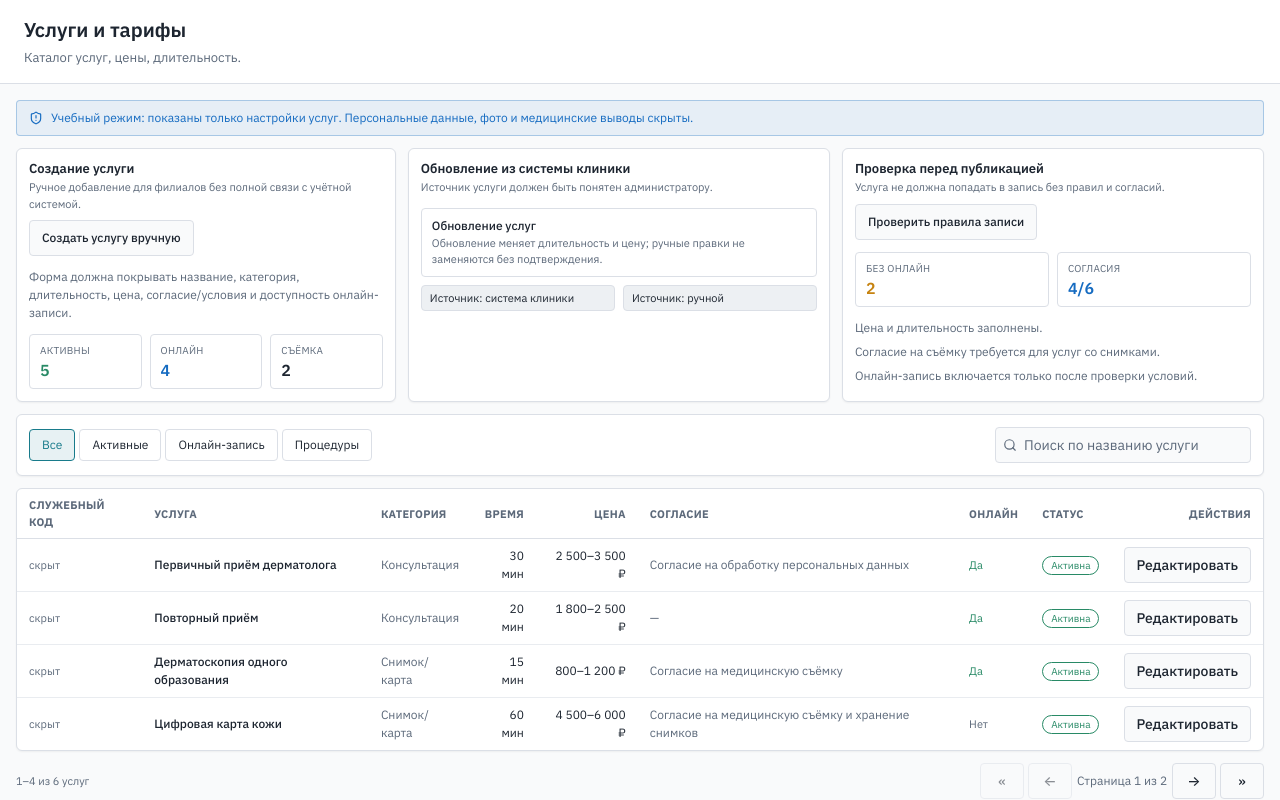
Test: Admin clinic core pages — render & safety › AdminServicesPage shows empty state with filter chip
Step 1. Type "ZZZнет" into the field named "Поиск услуг" → coordinates (1123, 445), box [995,427,1251,463]
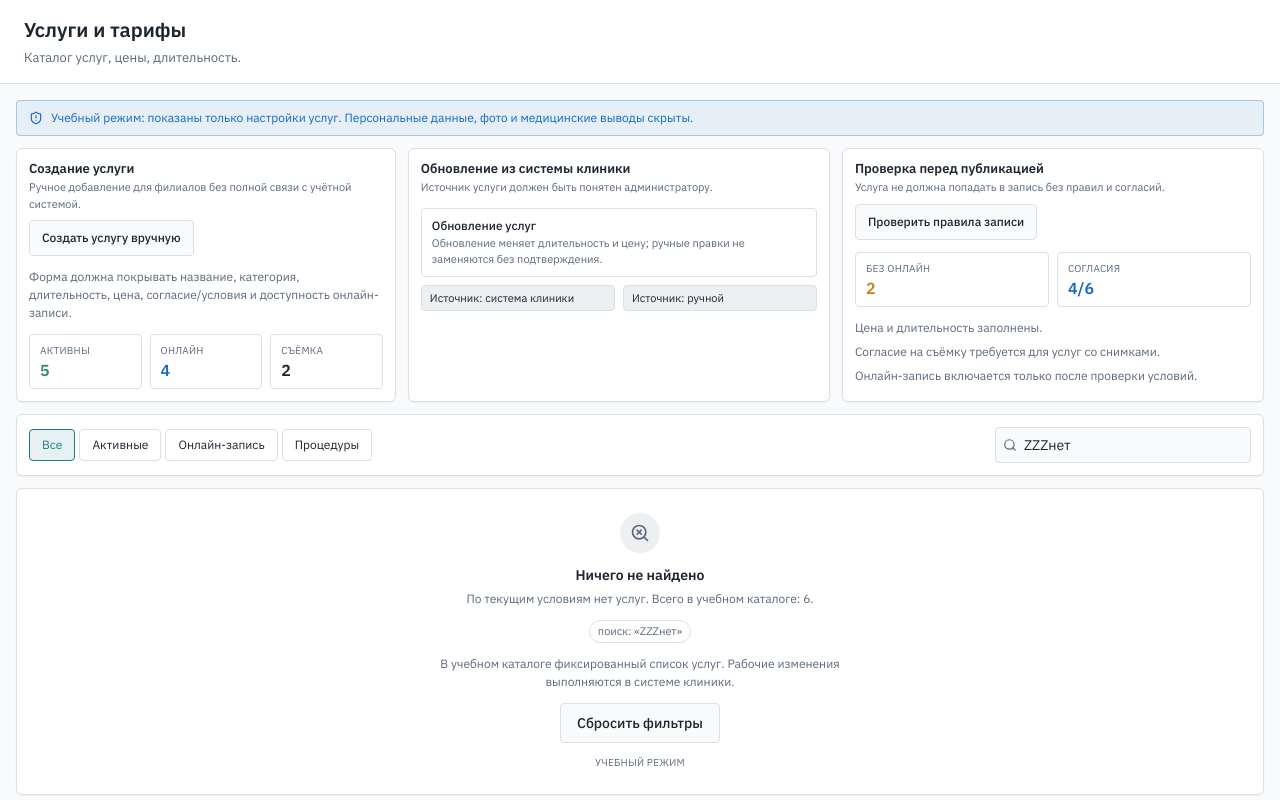
Expected: the text "Ничего не найдено" is shown, [576,566,704,584]
Expected: the list item "поиск: «ZZZнет»" is shown, [589,620,691,643]
